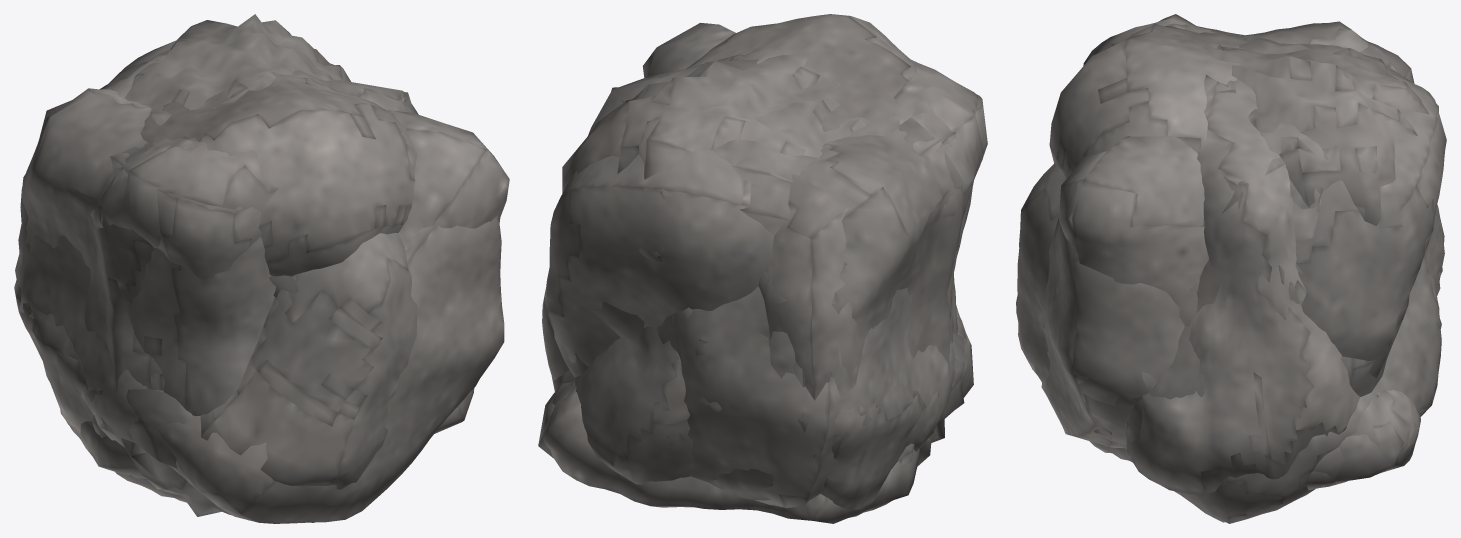
Rendered from Rocks_series_02.fbx.
3 renders of one model, left to right at view 1: azimuth 30°, elevation 25°; view 2: azimuth 150°, elevation 25°; view 3: azimuth 270°, elevation 25°, orthographic. The views are drawn at different scales.
Parts seen in each view (by area): view 1: Rocks_017, Rocks_01, Rocks_08, Rocks_032, Rocks_049, Rocks_044, Rocks_010, Rocks_050, Rocks_036, Rocks_027, Rocks_016, Rocks_025 (+1 smaller); view 2: Rocks_032, Rocks_01, Rocks_036, Rocks_049, Rocks_017, Rocks_044, Rocks_08, Rocks_016, Rocks_050, Rocks_010, Rocks_020, Rocks_043 (+2 smaller); view 3: Rocks_032, Rocks_01, Rocks_010, Rocks_049, Rocks_017, Rocks_08, Rocks_044, Rocks_016, Rocks_026, Rocks_036, Rocks_027, Rocks_050.
Part boxes in pixels (x1,y1,x2,y2): Rocks_017: (91,233,417,502); Rocks_01: (108,40,504,523); Rocks_08: (140,71,417,276); Rocks_032: (14,70,474,433); Rocks_049: (106,14,350,522); Rocks_044: (18,86,275,416); Rocks_010: (83,62,509,440); Rocks_050: (90,144,278,248); Rocks_036: (15,235,148,447); Rocks_027: (110,97,414,279); Rocks_016: (60,410,145,478); Rocks_025: (99,92,414,214); Rocks_032: (542,49,972,509); Rocks_01: (545,149,973,418); Rocks_036: (657,286,955,508); Rocks_049: (562,53,965,466); Rocks_017: (551,306,966,517); Rocks_044: (758,117,973,400); Rocks_08: (669,14,918,412); Rocks_016: (542,380,919,523); Rocks_050: (906,57,983,217); Rocks_010: (554,23,939,451); Rocks_020: (639,139,820,261); Rocks_043: (708,321,831,500); Rocks_032: (1126,21,1368,494); Rocks_01: (1041,71,1446,444); Rocks_010: (1059,123,1388,447); Rocks_049: (1126,35,1429,448); Rocks_017: (1016,163,1441,523); Rocks_08: (1049,23,1442,279); Rocks_044: (1125,30,1414,442); Rocks_016: (1306,389,1420,487); Rocks_026: (1333,421,1404,482); Rocks_036: (1425,204,1444,295); Rocks_027: (1083,28,1296,284); Rocks_050: (1087,14,1196,61).
Size of the model in its own units: 1.34 by 1.52 by 1.36.
